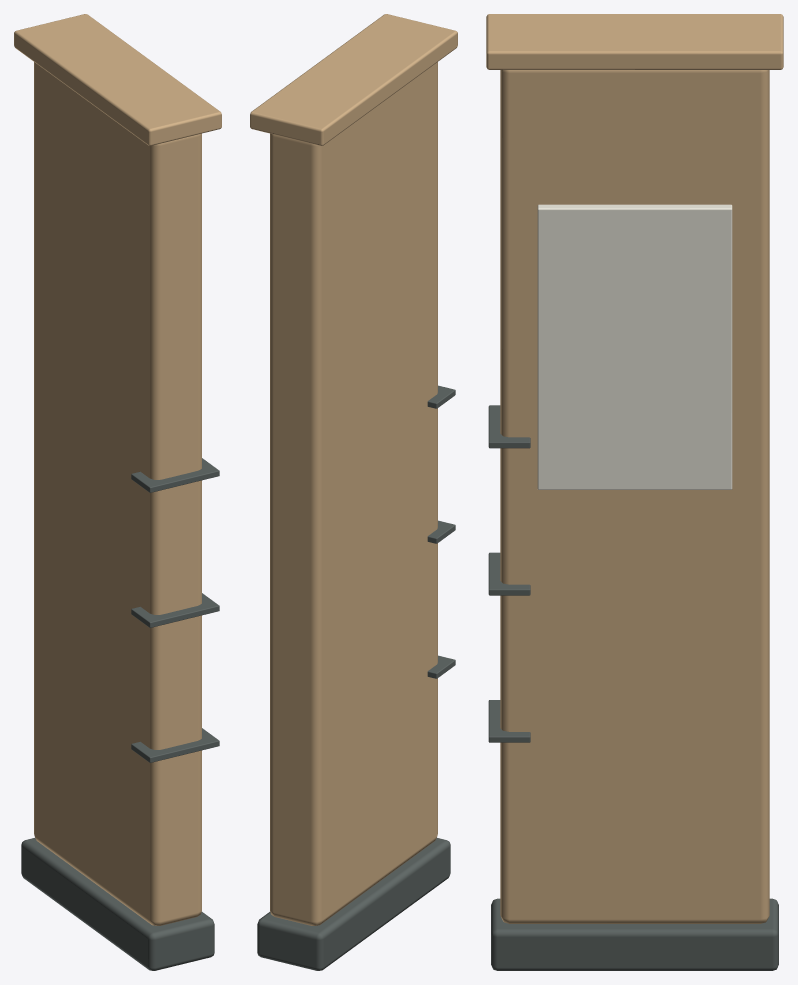
File: public-library-and-reading-garden-public-library-and-r-cb4a4da8__30914.glb
3 renders of one model, left to right at view 1: azimuth 30°, elevation 25°; view 2: azimuth 150°, elevation 25°; view 3: azimuth 270°, elevation 25°, orthographic. The views are drawn at different scales.
Parts seen in each view (by area): view 1: public-library-and-reading-garden-library-stack-end; view 2: public-library-and-reading-garden-library-stack-end; view 3: public-library-and-reading-garden-library-stack-end.
Boxes of the visible parts, box(x1,y1,x2,y2) form: public-library-and-reading-garden-library-stack-end: box(14, 14, 221, 970); public-library-and-reading-garden-library-stack-end: box(250, 14, 457, 970); public-library-and-reading-garden-library-stack-end: box(486, 14, 783, 970).
Size of the model in its own units: 0.2 by 2.19 by 0.6399.
